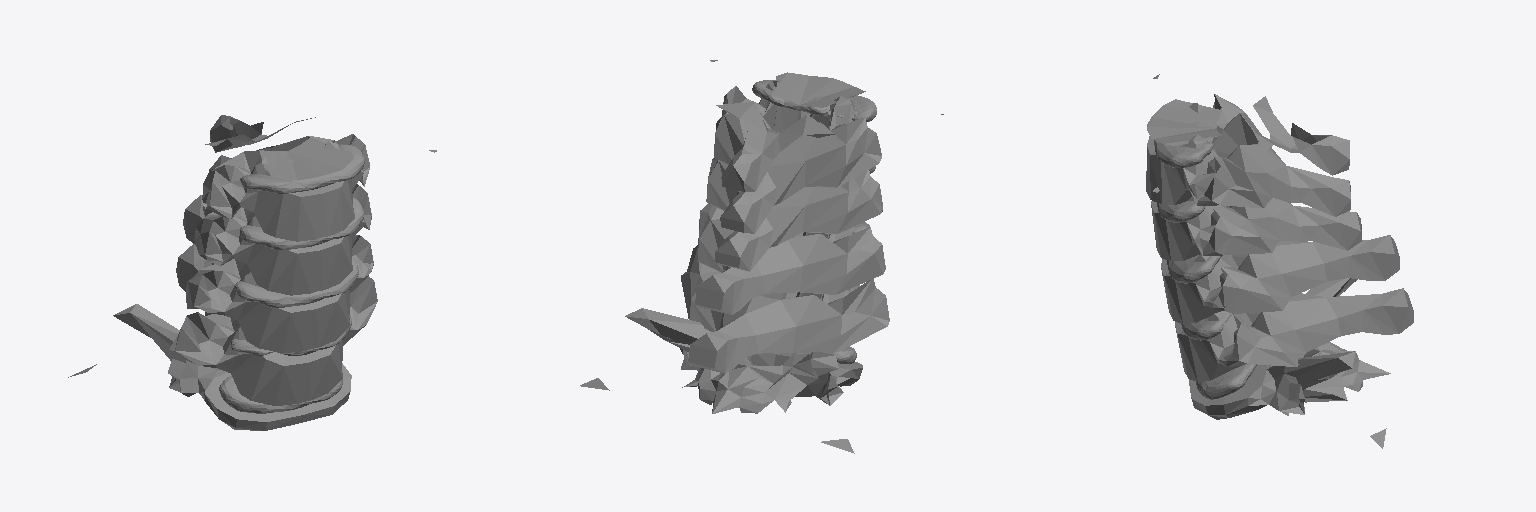
File: neck.obj
3 views of the same model, side by side, from view 1: azimuth 30°, elevation 25°; view 2: azimuth 150°, elevation 25°; view 3: azimuth 270°, elevation 25° (orthographic).
Visible parts, largest first — view 1: sub01; view 2: sub01; view 3: sub01.
Part boxes in pixels (x1,y1,x2,y2): sub01: (68,115,436,430); sub01: (580,60,943,453); sub01: (1146,74,1413,448).
Bounding box in the file's own units: 3.51 × 3.35 × 2.94.